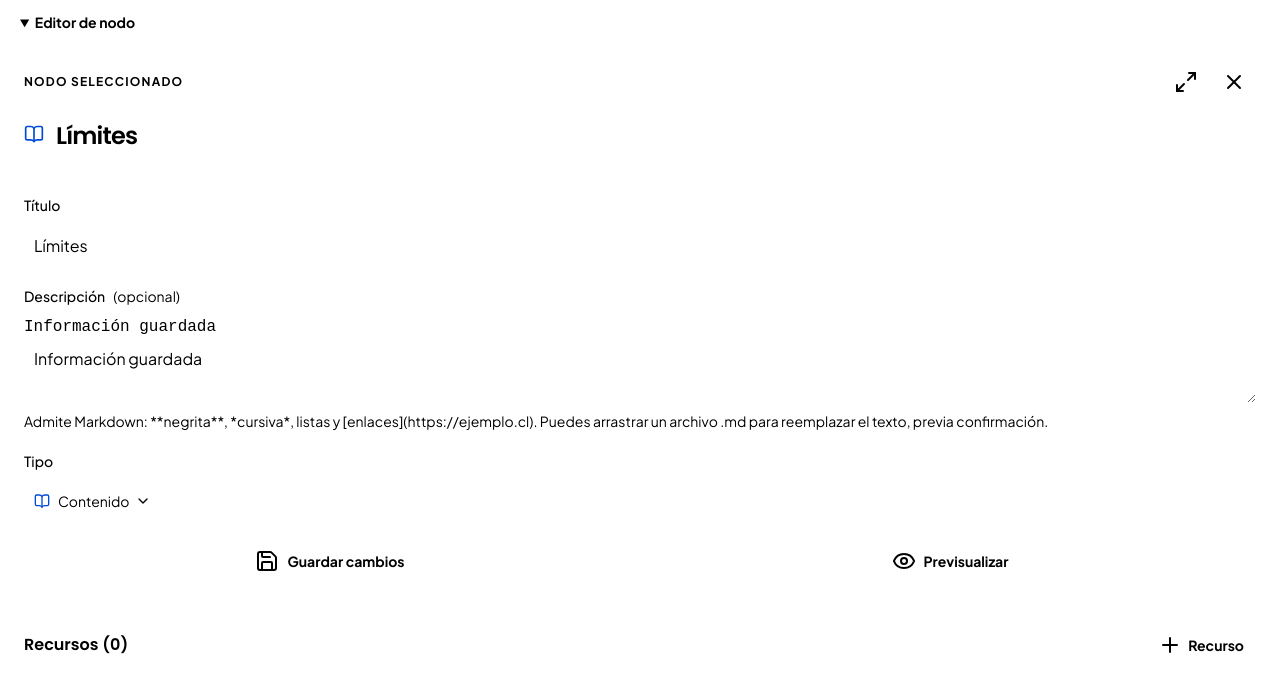
Test: names the unsaved fields and discards them back to the saved Node
The image size is (1280, 683).
Replace the text in the field labelled "Título" with "Nuevo título" at [640, 245], box [24,223,1256,267]
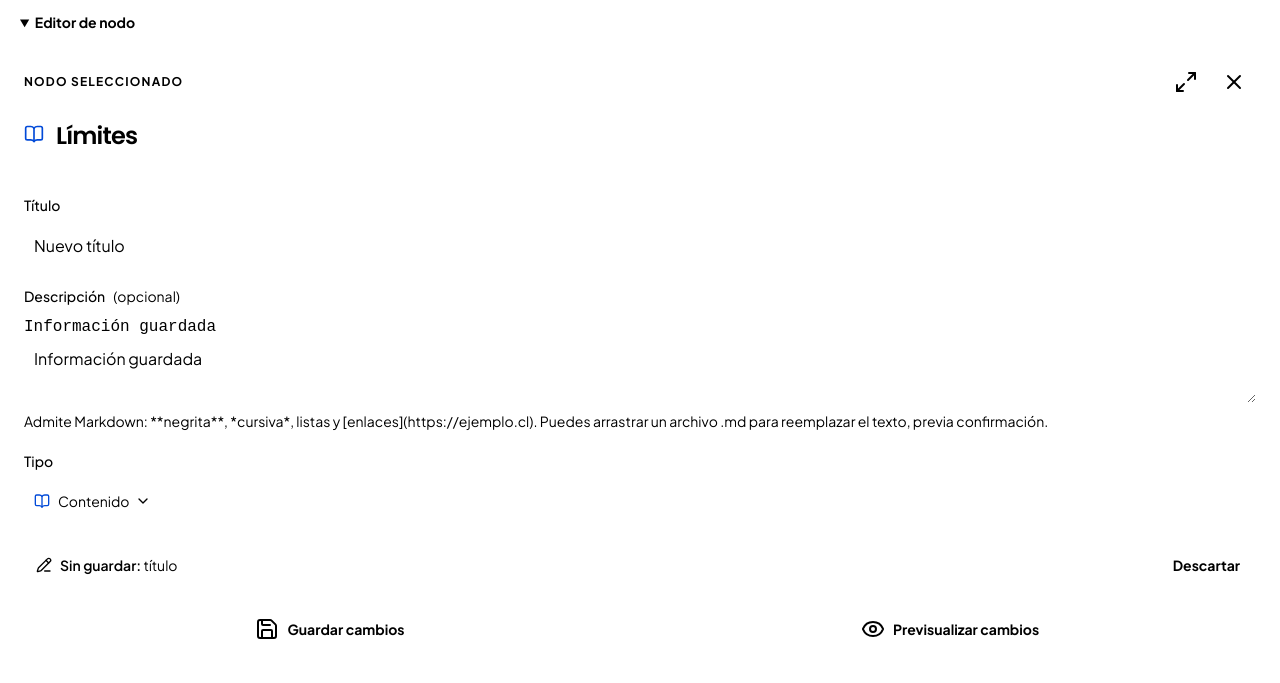
Click the button "Descartar".
click(1206, 565)  # box [1161,543,1252,587]
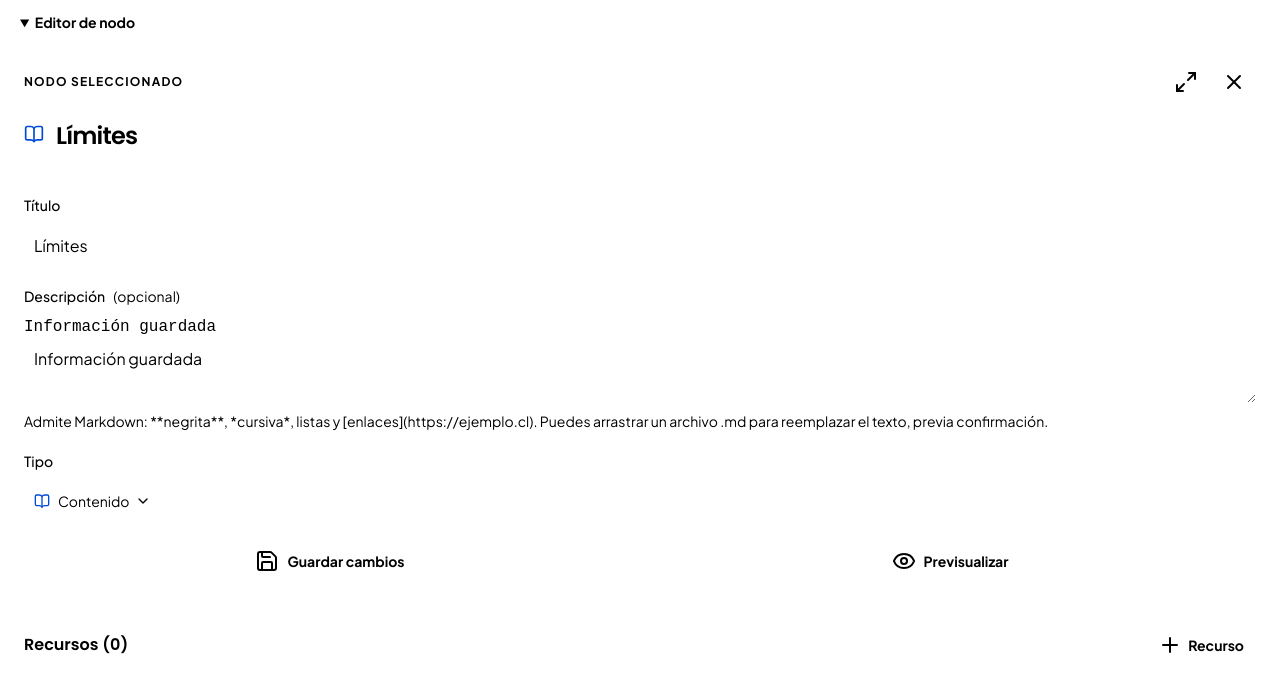
Result: the field labelled "Título" holds "Límites" at [24,223,1256,267]
Result: the text "Sin guardar:" is gone
Result: the button "Guardar cambios" is disabled at [24,539,636,583]
